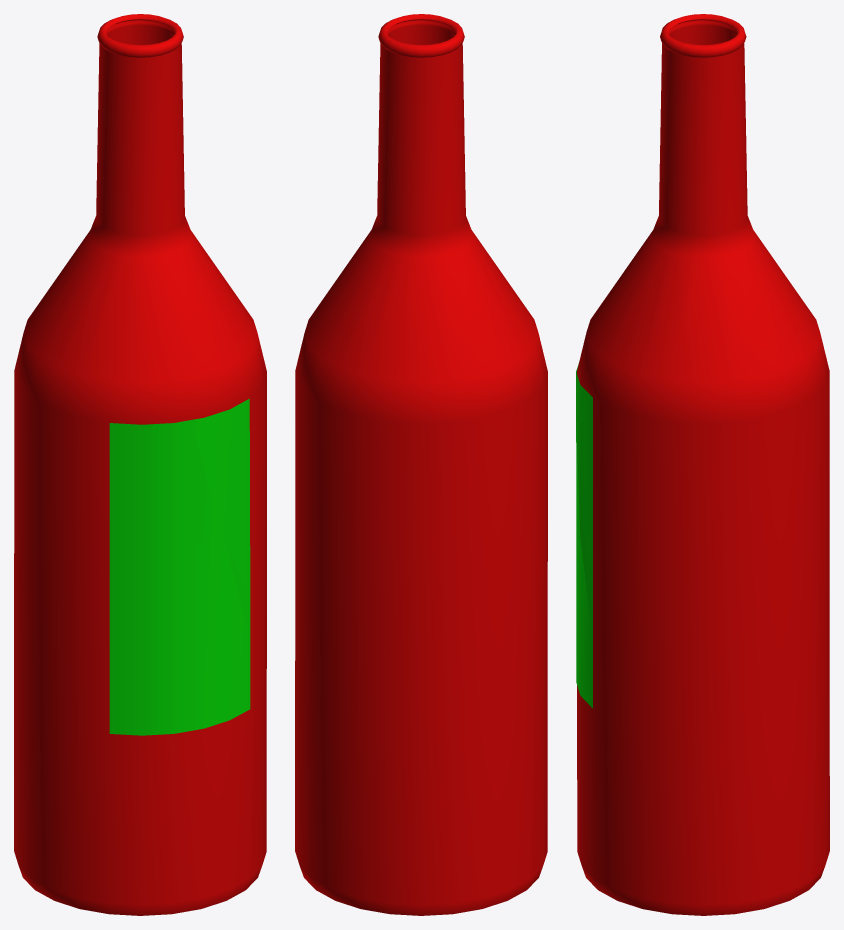
Rendered from wine_bottle_shards_grp.fbx.
3 renders of one model, left to right at view 1: azimuth 30°, elevation 25°; view 2: azimuth 150°, elevation 25°; view 3: azimuth 270°, elevation 25°, orthographic.
Visible parts, largest first — view 1: wine_bottle_1_shard_13, wine_bottle_1_shard_12, wine_bottle_1_shard_1, wine_bottle_1_shard_8, wine_bottle_1_shard_7, wine_bottle_1_shard_3, wine_bottle_1_shard_5, wine_bottle_1_shard_4, wine_bottle_1_shard_2, wine_bottle_1_shard_15; view 2: wine_bottle_1_shard_15, wine_bottle_1_shard_13, wine_bottle_1_shard_12, wine_bottle_1_shard_10, wine_bottle_1_shard_2, wine_bottle_1_shard_8, wine_bottle_1_shard_6, wine_bottle_1_shard_4, wine_bottle_1_shard_11, wine_bottle_1_shard_7, wine_bottle_1_shard_9; view 3: wine_bottle_1_shard_10, wine_bottle_1_shard_11, wine_bottle_1_shard_1, wine_bottle_1_shard_12, wine_bottle_1_shard_6, wine_bottle_1_shard_9, wine_bottle_1_shard_13, wine_bottle_1_shard_8, wine_bottle_1_shard_15, wine_bottle_1_shard_7, wine_bottle_1_shard_5.
Part boxes in pixels (x1,y1,x2,y2): wine_bottle_1_shard_13: (14, 183, 263, 754); wine_bottle_1_shard_12: (14, 697, 266, 915); wine_bottle_1_shard_1: (112, 158, 266, 712); wine_bottle_1_shard_8: (97, 14, 176, 97); wine_bottle_1_shard_7: (128, 24, 183, 115); wine_bottle_1_shard_3: (100, 110, 162, 163); wine_bottle_1_shard_5: (159, 79, 183, 173); wine_bottle_1_shard_4: (98, 70, 138, 132); wine_bottle_1_shard_2: (94, 126, 116, 219); wine_bottle_1_shard_15: (14, 553, 25, 715); wine_bottle_1_shard_15: (302, 374, 521, 778); wine_bottle_1_shard_13: (388, 174, 547, 726); wine_bottle_1_shard_12: (295, 702, 547, 915); wine_bottle_1_shard_10: (295, 149, 413, 686); wine_bottle_1_shard_2: (401, 140, 464, 309); wine_bottle_1_shard_8: (378, 14, 464, 92); wine_bottle_1_shard_6: (378, 57, 427, 179); wine_bottle_1_shard_4: (405, 78, 463, 141); wine_bottle_1_shard_11: (295, 482, 315, 701); wine_bottle_1_shard_7: (387, 14, 446, 44); wine_bottle_1_shard_9: (295, 689, 312, 763); wine_bottle_1_shard_10: (656, 155, 829, 681); wine_bottle_1_shard_11: (640, 328, 815, 749); wine_bottle_1_shard_1: (576, 145, 703, 775); wine_bottle_1_shard_12: (577, 698, 829, 915); wine_bottle_1_shard_6: (673, 69, 746, 185); wine_bottle_1_shard_9: (702, 701, 812, 810); wine_bottle_1_shard_13: (576, 284, 814, 725); wine_bottle_1_shard_8: (661, 14, 746, 72); wine_bottle_1_shard_15: (797, 317, 829, 759); wine_bottle_1_shard_7: (660, 33, 721, 100); wine_bottle_1_shard_5: (660, 92, 692, 182).
Bounding box in the file's own units: 8.92 × 32.54 × 8.96.
